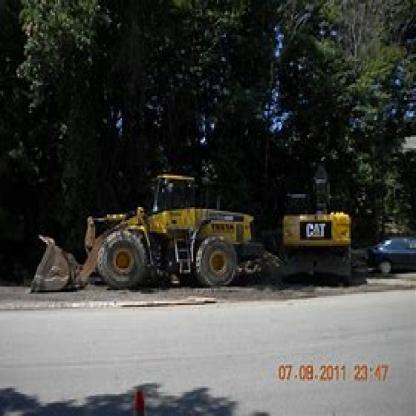bull_dozer/loader/grader: (24, 172, 261, 299)
